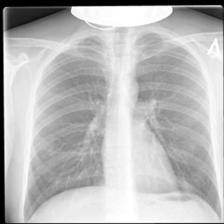tuberculosis: (19, 27, 223, 224)
